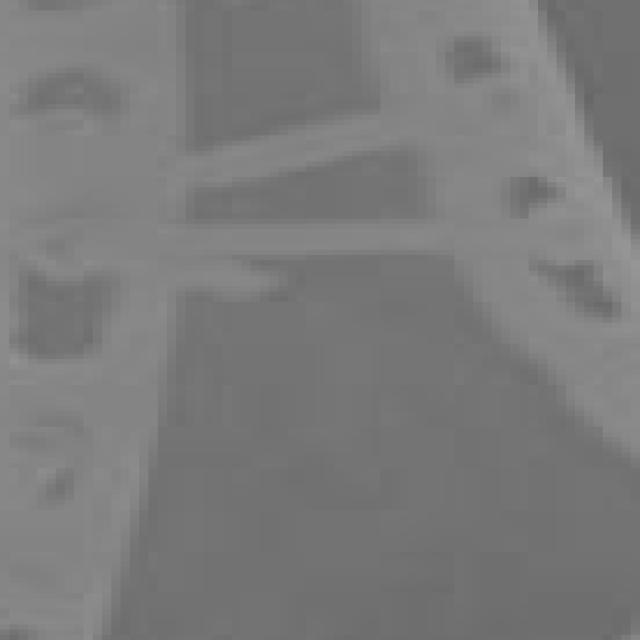fracture: (2, 0, 640, 639)
